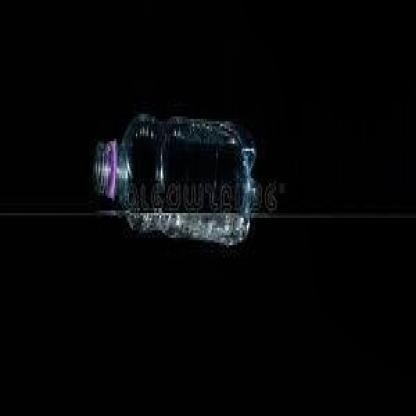pbottle: (88, 107, 260, 245)
